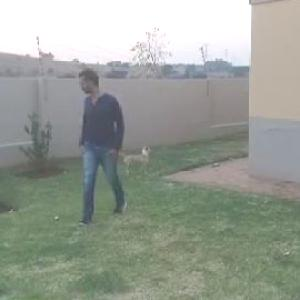follow: (78, 63, 129, 220)
